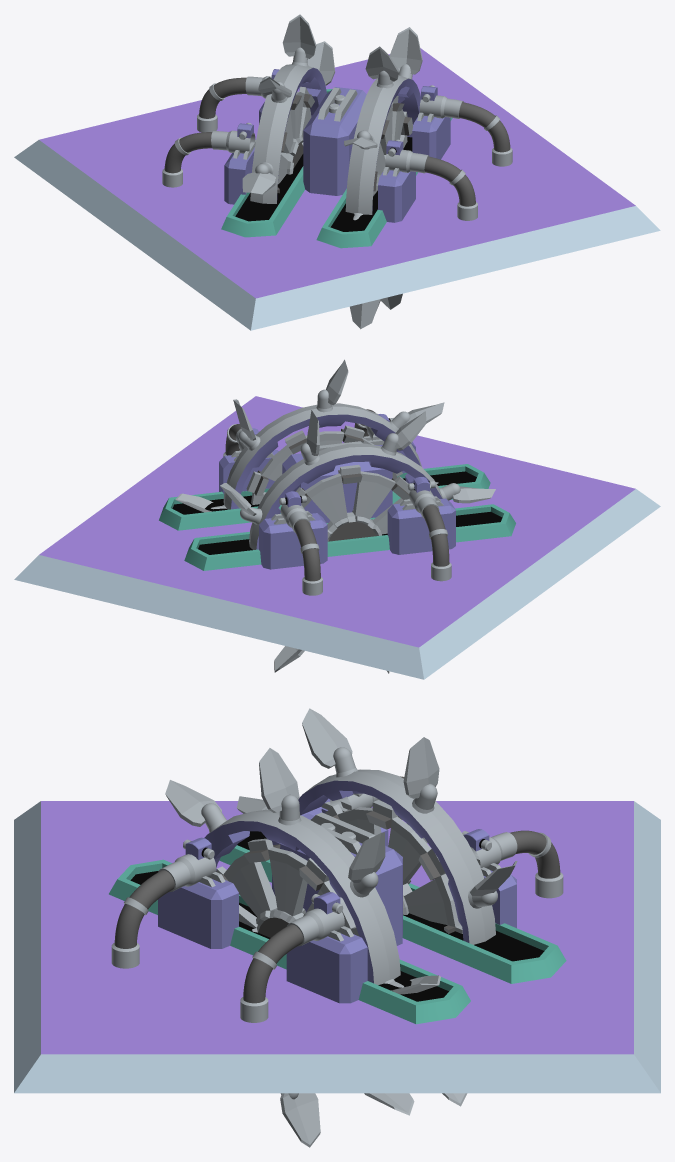
Rendered from 57_Haarvester_FUD2.fbx.
The picture shows the model from 3 angles, top to bottom: view 1: azimuth 30°, elevation 25°; view 2: azimuth 150°, elevation 25°; view 3: azimuth 270°, elevation 25°; orthographic projection. The views are drawn at different scales.
Visible parts, largest first — view 1: foundation2, pCylinder116 (×4), pPipe28 (×2), pPlane33 (×6), pCube130, pCylinder115 (×2), pPlane36, harv2, pCube123, pCube128, pCube129; view 2: foundation2, pPipe28 (×2), pCylinder115 (×2), pPlane36, pCylinder116 (×3), harv2, pCube127, pCube129, pPlane33 (×3), pCube130, pCube128; view 3: foundation2, pPipe28 (×2), pCylinder115 (×2), pCylinder116 (×3), pPlane33 (×8), pPlane36, harv2, pCube128, pCube123, pCube130, pCube127.
Boxes of the visible parts, left/top/right/bottom form: foundation2: left=14, top=48, right=660, bottom=330; pCylinder116 (×4): left=162, top=69, right=512, bottom=220; pPipe28 (×2): left=250, top=64, right=420, bottom=214; pPlane33 (×6): left=242, top=14, right=422, bottom=329; pCube130: left=303, top=87, right=366, bottom=195; pCylinder115 (×2): left=277, top=86, right=412, bottom=196; pPlane36: left=221, top=89, right=332, bottom=237; harv2: left=316, top=117, right=452, bottom=248; pCube123: left=378, top=170, right=415, bottom=222; pCube128: left=412, top=116, right=450, bottom=159; pCube129: left=224, top=139, right=255, bottom=204; foundation2: left=14, top=396, right=660, bottom=679; pPipe28 (×2): left=223, top=403, right=443, bottom=549; pCylinder115 (×2): left=246, top=425, right=410, bottom=541; pPlane36: left=184, top=504, right=515, bottom=570; pCylinder116 (×3): left=223, top=424, right=451, bottom=595; harv2: left=159, top=464, right=490, bottom=530; pCube127: left=259, top=513, right=327, bottom=569; pCube129: left=387, top=498, right=455, bottom=554; pPlane33 (×3): left=326, top=359, right=495, bottom=503; pCube130: left=282, top=445, right=392, bottom=522; pCube128: left=219, top=450, right=278, bottom=493; foundation2: left=14, top=801, right=660, bottom=1093; pPipe28 (×2): left=204, top=769, right=495, bottom=984; pCylinder115 (×2): left=216, top=800, right=462, bottom=937; pCylinder116 (×3): left=111, top=829, right=563, bottom=1022; pPlane33 (×8): left=165, top=708, right=517, bottom=1147; pPlane36: left=219, top=831, right=566, bottom=983; harv2: left=109, top=859, right=470, bottom=1024; pCube128: left=286, top=933, right=367, bottom=1003; pCube123: left=158, top=879, right=238, bottom=948; pCube130: left=272, top=813, right=402, bottom=945; pCube127: left=483, top=870, right=516, bottom=928.
Size of the model in its own units: 2 by 1.31 by 2.
